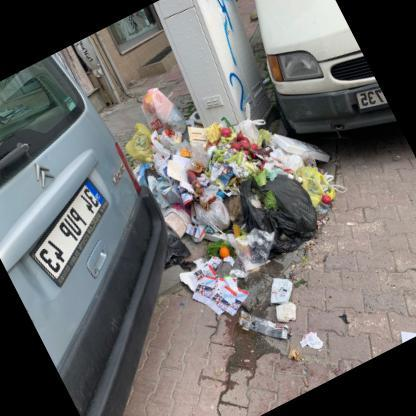Garbage: (162, 196, 332, 367), (170, 132, 324, 272), (143, 128, 267, 272), (179, 122, 284, 224), (232, 138, 332, 233), (108, 83, 200, 185), (298, 323, 330, 355)
